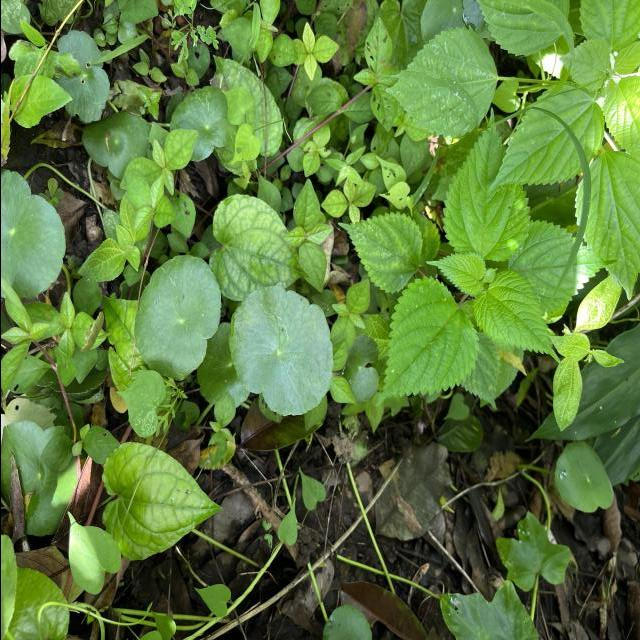Bacopa monnieri: (226, 284, 334, 418), (132, 254, 222, 382), (0, 167, 68, 301)
